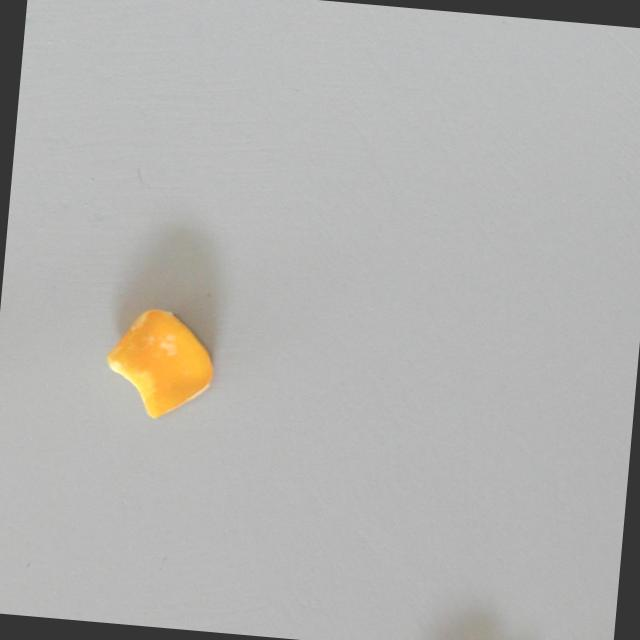pelicula: (99, 299, 221, 424)
